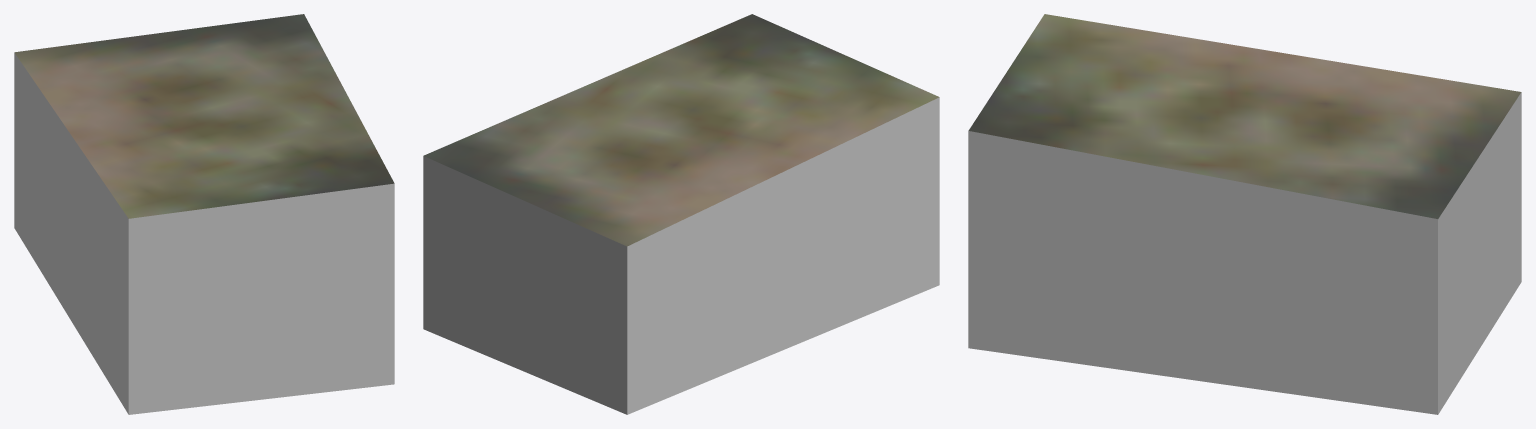
Rendered from DEBW_0010007TxiU.gltf.
The picture shows the model from 3 angles, left to right: view 1: azimuth 30°, elevation 25°; view 2: azimuth 150°, elevation 25°; view 3: azimuth 270°, elevation 25°; orthographic projection. The views are drawn at different scales.
Visible parts, largest first — view 1: Z_UP; view 2: Z_UP; view 3: Z_UP.
Boxes of the visible parts, x1,y1,x2,y2 form: Z_UP: (14, 14, 394, 414); Z_UP: (423, 14, 939, 414); Z_UP: (968, 14, 1521, 414).
Size of the model in its own units: 5.57 by 2.99 by 6.9.
2 materials, 1 textured.
